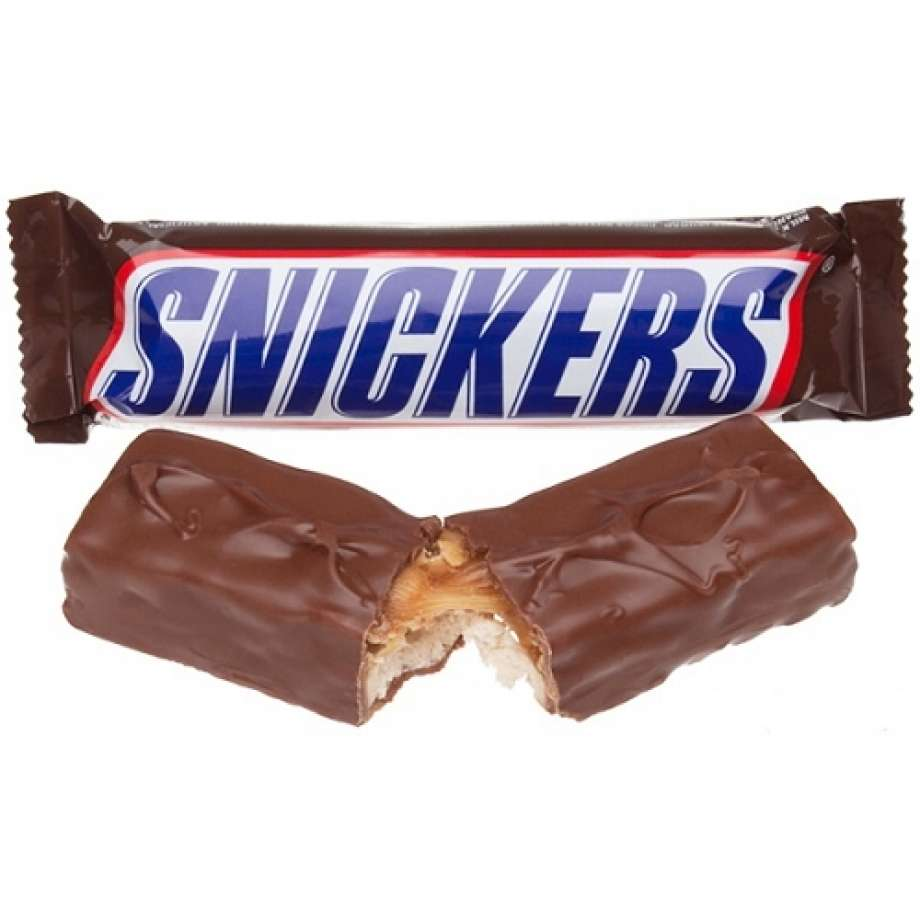snickers: (107, 258, 803, 417), (107, 258, 792, 417)
